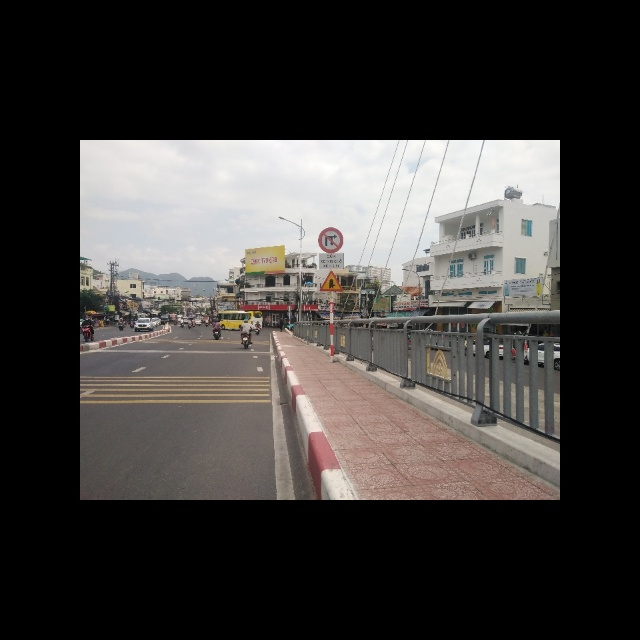Cấm quay đầu và rẽ phải: (318, 226, 344, 252)
Giao nhau với đường không ưu tiên: (320, 270, 344, 291)
